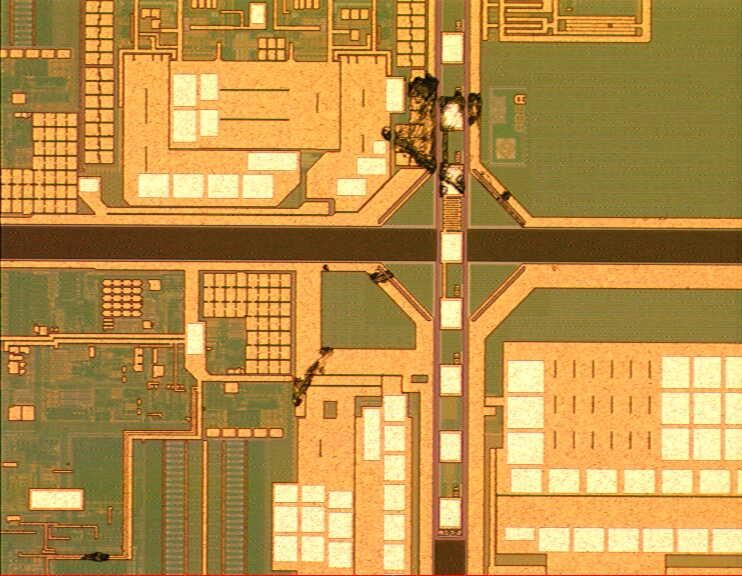SCRATCH: (76, 263, 401, 574), (375, 65, 484, 193)
